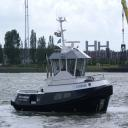tugboat: (11, 16, 115, 118)
